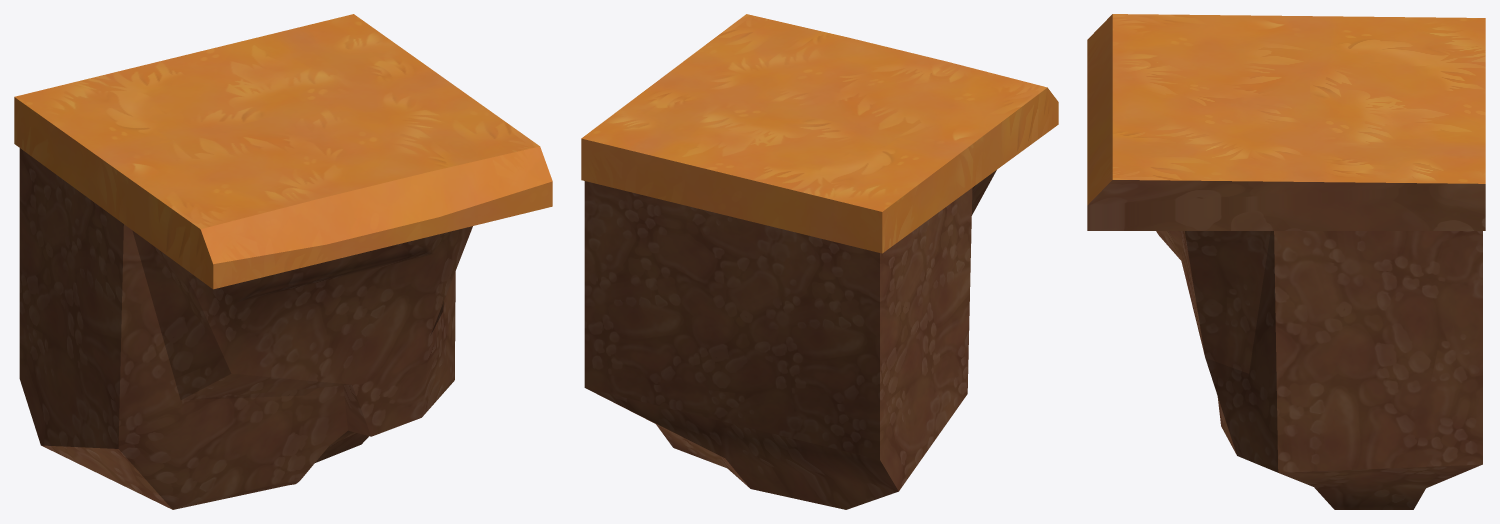
File: Ground 3.FBX
3 renders of one model, left to right at view 1: azimuth 30°, elevation 25°; view 2: azimuth 150°, elevation 25°; view 3: azimuth 270°, elevation 25°, orthographic. The views are drawn at different scales.
Visible parts, largest first — view 1: Object002; view 2: Object002; view 3: Object002.
Boxes of the visible parts, x1,y1,x2,y2 form: Object002: [14, 14, 552, 509]; Object002: [581, 14, 1058, 509]; Object002: [1087, 14, 1485, 509].
Bounding box in the file's own units: 38.87 × 41.61 × 39.45.
